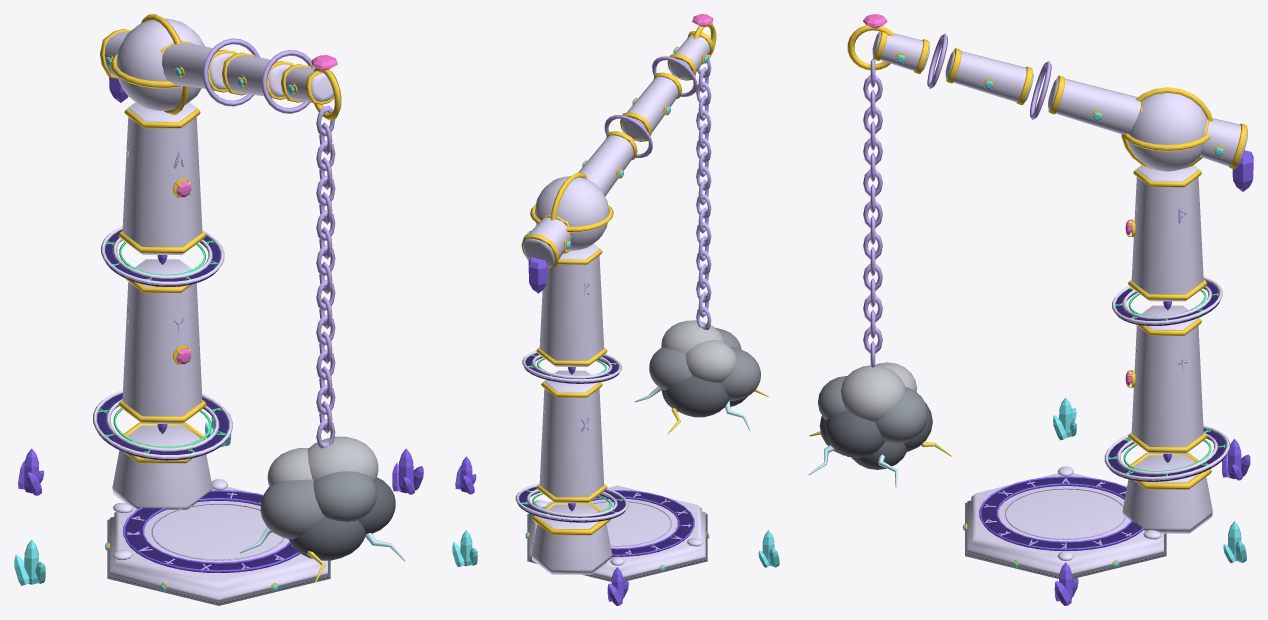
File: WreckingCrane_T4.fbx
3 renders of one model, left to right at view 1: azimuth 30°, elevation 25°; view 2: azimuth 150°, elevation 25°; view 3: azimuth 270°, elevation 25°, orthographic. The views are drawn at different scales.
Visible parts, largest first — view 1: WreckingCraneT4Dais, WreckingCraneT4Ball, WreckingCraneT4ColumnA, WreckingCraneT4ColumnB, WreckingCraneT4Mast, WreckingCraneT4RuneRings, WreckingCraneT4BallGlow, WreckingCraneT4Shoulder, WreckingCraneT4DaisCrystalsGlow, WreckingCraneT4ArmA, WreckingCraneT4ArmB, WreckingCraneT4ArmTip (+4 smaller); view 2: WreckingCraneT4Ball, WreckingCraneT4Dais, WreckingCraneT4ColumnA, WreckingCraneT4ColumnB, WreckingCraneT4Mast, WreckingCraneT4Shoulder, WreckingCraneT4BallGlow, WreckingCraneT4RuneRings, WreckingCraneT4ArmRear, WreckingCraneT4DaisCrystalsGlow, WreckingCraneT4ArmB, WreckingCraneT4ArmA (+2 smaller); view 3: WreckingCraneT4Dais, WreckingCraneT4ColumnA, WreckingCraneT4Ball, WreckingCraneT4ColumnB, WreckingCraneT4Shoulder, WreckingCraneT4Mast, WreckingCraneT4BallGlow, WreckingCraneT4RuneRings, WreckingCraneT4ArmA, WreckingCraneT4ArmB, WreckingCraneT4DaisCrystalsGlow, WreckingCraneT4ArmRear (+4 smaller).
Boxes of the visible parts, bbox=[...] form: WreckingCraneT4Dais: bbox=[105, 486, 330, 605]; WreckingCraneT4Ball: bbox=[260, 436, 395, 560]; WreckingCraneT4ColumnA: bbox=[118, 259, 206, 423]; WreckingCraneT4ColumnB: bbox=[118, 102, 206, 254]; WreckingCraneT4Mast: bbox=[112, 422, 212, 509]; WreckingCraneT4RuneRings: bbox=[93, 226, 232, 460]; WreckingCraneT4BallGlow: bbox=[240, 105, 405, 582]; WreckingCraneT4Shoulder: bbox=[110, 14, 204, 114]; WreckingCraneT4DaisCrystalsGlow: bbox=[14, 403, 423, 585]; WreckingCraneT4ArmA: bbox=[161, 40, 237, 92]; WreckingCraneT4ArmB: bbox=[222, 52, 293, 99]; WreckingCraneT4ArmTip: bbox=[281, 64, 341, 120]; WreckingCraneT4Ball: bbox=[649, 320, 760, 417]; WreckingCraneT4Dais: bbox=[526, 485, 708, 581]; WreckingCraneT4ColumnA: bbox=[536, 370, 607, 503]; WreckingCraneT4ColumnB: bbox=[536, 243, 607, 366]; WreckingCraneT4Mast: bbox=[531, 502, 612, 574]; WreckingCraneT4Shoulder: bbox=[530, 172, 613, 253]; WreckingCraneT4BallGlow: bbox=[634, 59, 768, 434]; WreckingCraneT4RuneRings: bbox=[515, 351, 628, 522]; WreckingCraneT4ArmRear: bbox=[521, 215, 571, 293]; WreckingCraneT4DaisCrystalsGlow: bbox=[452, 456, 779, 605]; WreckingCraneT4ArmB: bbox=[620, 72, 681, 141]; WreckingCraneT4ArmA: bbox=[578, 131, 637, 196]; WreckingCraneT4Dais: bbox=[963, 473, 1166, 578]; WreckingCraneT4ColumnA: bbox=[1126, 305, 1207, 453]; WreckingCraneT4Ball: bbox=[817, 362, 932, 469]; WreckingCraneT4ColumnB: bbox=[1126, 165, 1207, 301]; WreckingCraneT4Shoulder: bbox=[1121, 87, 1212, 171]; WreckingCraneT4Mast: bbox=[1122, 453, 1212, 533]; WreckingCraneT4BallGlow: bbox=[808, 58, 951, 487]; WreckingCraneT4RuneRings: bbox=[1104, 277, 1229, 481]; WreckingCraneT4ArmA: bbox=[1048, 75, 1142, 134]; WreckingCraneT4ArmB: bbox=[945, 48, 1033, 105]; WreckingCraneT4DaisCrystalsGlow: bbox=[1053, 397, 1250, 605]; WreckingCraneT4ArmRear: bbox=[1200, 118, 1253, 191].
Bounding box in the file's own units: 462 × 625 × 490.
